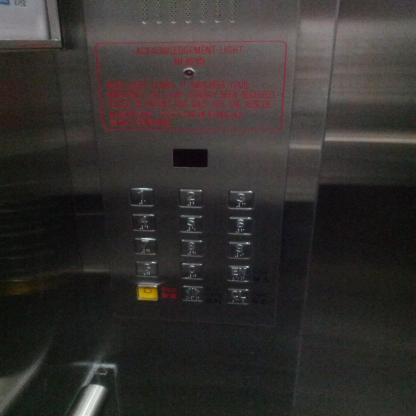0: (179, 262, 205, 280)
1: (128, 186, 156, 208)
2: (176, 186, 204, 209)
3: (227, 189, 255, 211)
4: (130, 212, 157, 232)
5: (178, 214, 206, 234)
6: (226, 215, 254, 236)
7: (132, 236, 158, 256)
8: (179, 238, 205, 258)
9: (227, 240, 252, 260)
CL: (225, 286, 250, 306)
EN: (226, 263, 252, 282)
G: (134, 259, 159, 278)
alarm: (135, 282, 160, 301)
open: (180, 284, 205, 303)
